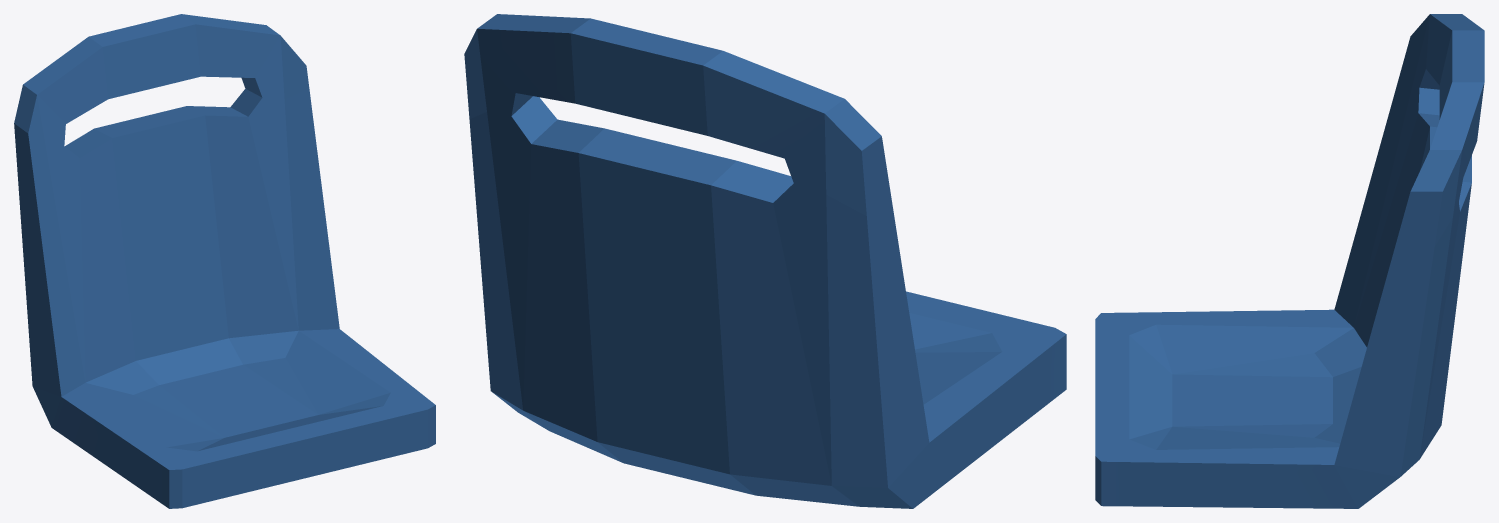
Rendered from Int_GymSeat01_2.fbx.
3 renders of one model, left to right at view 1: azimuth 30°, elevation 25°; view 2: azimuth 150°, elevation 25°; view 3: azimuth 270°, elevation 25°, orthographic. The views are drawn at different scales.
Visible parts, largest first — view 1: Int_GymSeat01_2; view 2: Int_GymSeat01_2; view 3: Int_GymSeat01_2.
Boxes of the visible parts, bbox=[...] form: Int_GymSeat01_2: bbox=[14, 14, 435, 508]; Int_GymSeat01_2: bbox=[464, 14, 1066, 508]; Int_GymSeat01_2: bbox=[1095, 14, 1484, 508].
Size of what is drawn, in the model's own units: 75 by 79.43 by 84.57.
